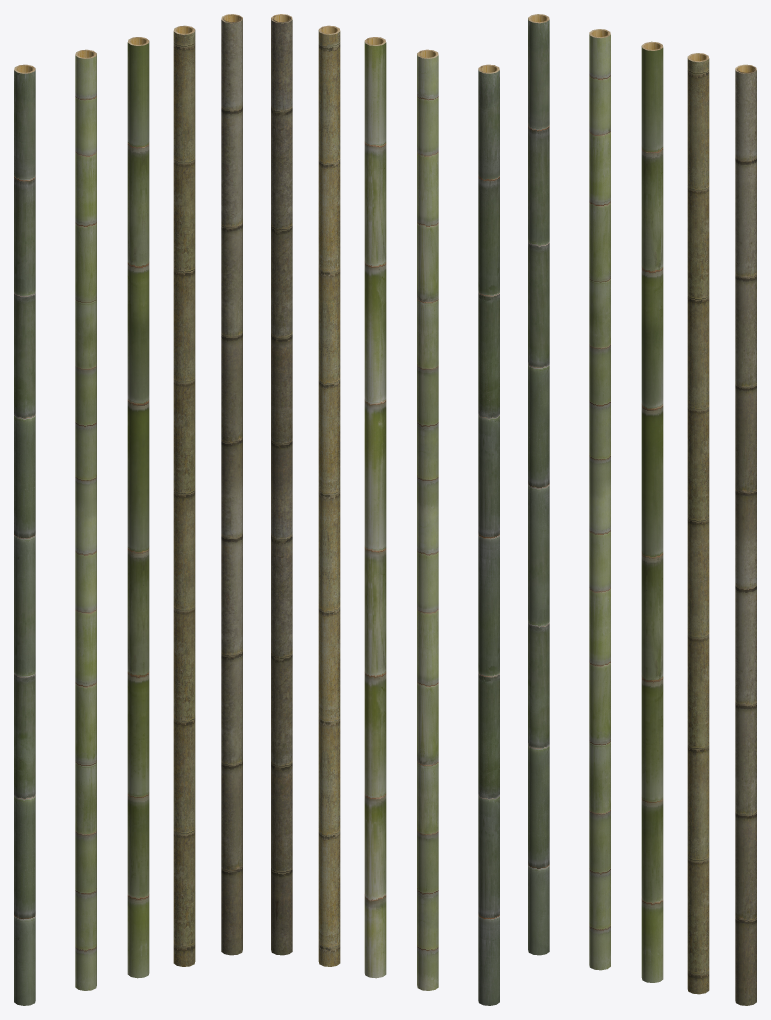
3 renders of one model, left to right at view 1: azimuth 30°, elevation 25°; view 2: azimuth 150°, elevation 25°; view 3: azimuth 330°, elevation 25°, orthographic.
Visible parts, largest first — view 1: Bamboo_04, Bamboo_01, Bamboo_02, Bamboo_05, Bamboo_03; view 2: Bamboo_04, Bamboo_01, Bamboo_02, Bamboo_05, Bamboo_03; view 3: Bamboo_04, Bamboo_01, Bamboo_02, Bamboo_05, Bamboo_03.
Boxes of the visible parts, x1=… form: Bamboo_04: x1=173, y1=25, x2=195, y2=966; Bamboo_01: x1=127, y1=37, x2=149, y2=978; Bamboo_02: x1=14, y1=64, x2=35, y2=1005; Bamboo_05: x1=221, y1=14, x2=242, y2=955; Bamboo_03: x1=75, y1=49, x2=96, y2=990; Bamboo_04: x1=318, y1=25, x2=340, y2=966; Bamboo_01: x1=364, y1=37, x2=386, y2=978; Bamboo_02: x1=478, y1=64, x2=499, y2=1005; Bamboo_05: x1=271, y1=14, x2=292, y2=955; Bamboo_03: x1=417, y1=49, x2=438, y2=990; Bamboo_04: x1=687, y1=53, x2=709, y2=994; Bamboo_01: x1=641, y1=41, x2=663, y2=982; Bamboo_02: x1=528, y1=14, x2=549, y2=955; Bamboo_05: x1=735, y1=64, x2=756, y2=1005; Bamboo_03: x1=589, y1=29, x2=610, y2=970.
Size of the model in its own units: 0.0989 by 0.3906 by 0.00843.
1 material, 1 textured.
